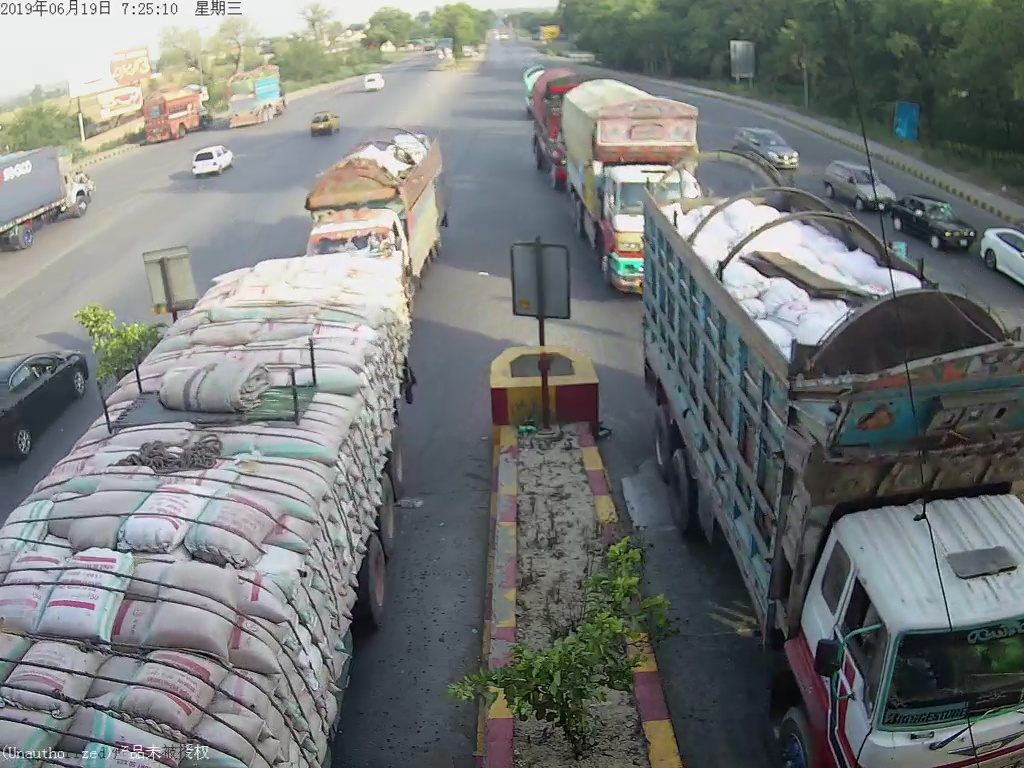Cat-4: (645, 166, 1024, 764), (305, 138, 462, 257)
